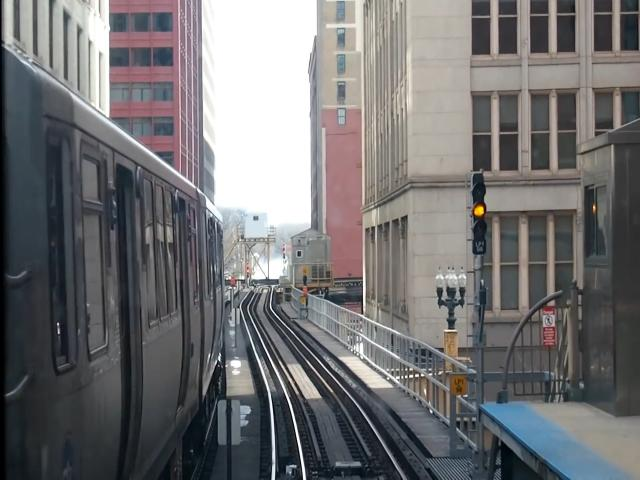signal light: (466, 171, 492, 259), (283, 243, 288, 263), (247, 260, 251, 279)
